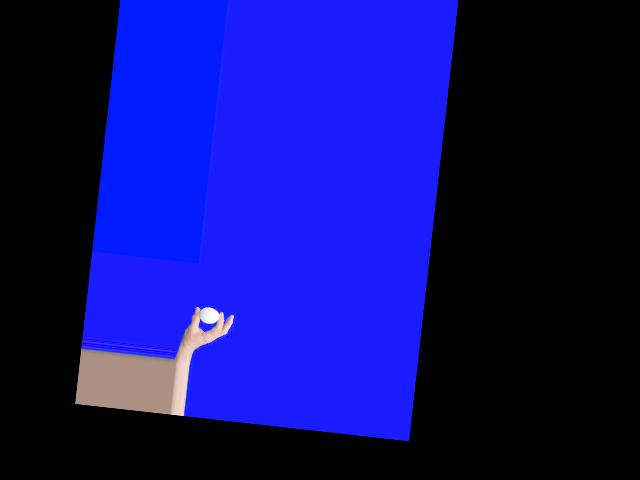egg: (198, 306, 220, 324)
